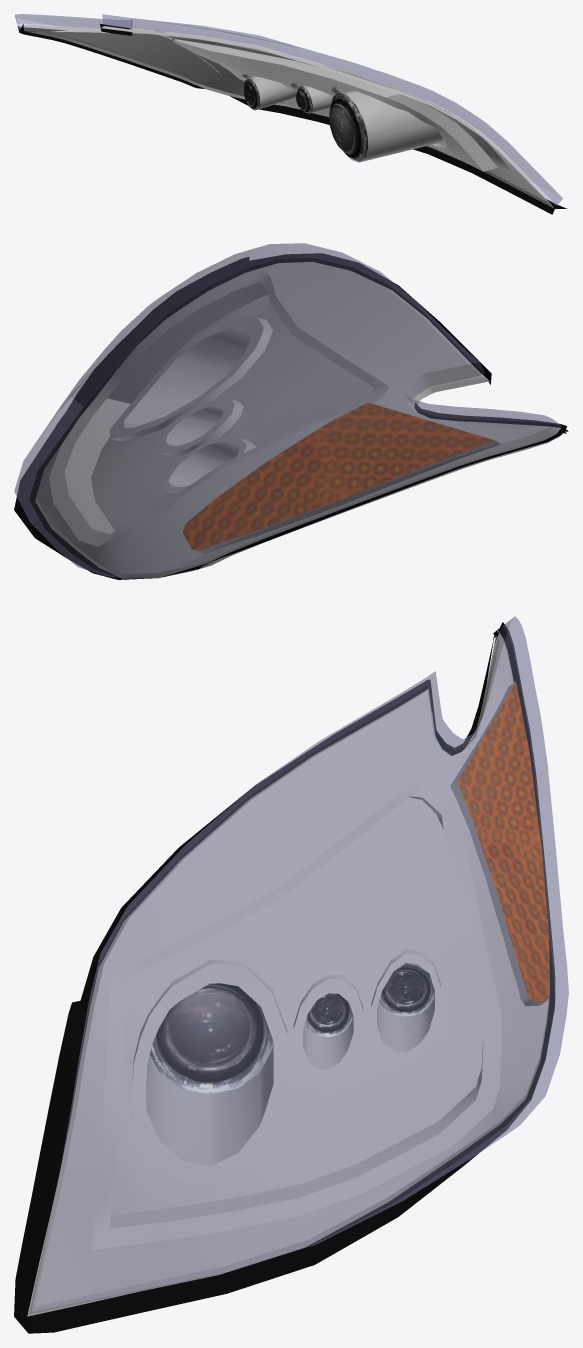
3 views of the same model, one above another, from view 1: azimuth 30°, elevation 25°; view 2: azimuth 150°, elevation 25°; view 3: azimuth 270°, elevation 25° (orthographic). The views are drawn at different scales.
Visible parts, largest first — view 1: Y192_061B_L_Y192_061B_L_2_DaS, Y192_061B_L_Y192_061B_L_7_DTaSI, Y192_061B_L_Y192_061B_L_8_D, Y192_061B_L_1_N_Y192_061B_L, Y192_061B_L_Y192_061B_L_4_N, Y192_061B_L_Y192_061B_L_3_N; view 2: Y192_061B_L_Y192_061B_L_7_DTaSI, Y192_061B_L_Y192_061B_L_2_DaS, Y192_061B_L_Y192_061B_L_6_N, Y192_061B_L_Y192_061B_L_8_D; view 3: Y192_061B_L_Y192_061B_L_7_DTaSI, Y192_061B_L_Y192_061B_L_2_DaS, Y192_061B_L_Y192_061B_L_8_D, Y192_061B_L_Y192_061B_L_6_N, Y192_061B_L_1_N_Y192_061B_L, Y192_061B_L_Y192_061B_L_4_N, Y192_061B_L_Y192_061B_L_3_N.
Boxes of the visible parts, box(x1,y1,x2,y2) form: Y192_061B_L_Y192_061B_L_2_DaS: box(18, 24, 554, 208); Y192_061B_L_Y192_061B_L_7_DTaSI: box(15, 14, 562, 205); Y192_061B_L_Y192_061B_L_8_D: box(17, 23, 566, 214); Y192_061B_L_1_N_Y192_061B_L: box(329, 92, 368, 162); Y192_061B_L_Y192_061B_L_4_N: box(244, 79, 259, 110); Y192_061B_L_Y192_061B_L_3_N: box(296, 86, 312, 113); Y192_061B_L_Y192_061B_L_7_DTaSI: box(14, 243, 561, 577); Y192_061B_L_Y192_061B_L_2_DaS: box(35, 262, 560, 578); Y192_061B_L_Y192_061B_L_6_N: box(183, 402, 494, 550); Y192_061B_L_Y192_061B_L_8_D: box(14, 253, 568, 579); Y192_061B_L_Y192_061B_L_7_DTaSI: box(29, 616, 568, 1314); Y192_061B_L_Y192_061B_L_2_DaS: box(27, 629, 549, 1316); Y192_061B_L_Y192_061B_L_8_D: box(14, 622, 554, 1333); Y192_061B_L_Y192_061B_L_6_N: box(457, 682, 549, 1002); Y192_061B_L_1_N_Y192_061B_L: box(150, 983, 273, 1094); Y192_061B_L_Y192_061B_L_4_N: box(379, 963, 434, 1016); Y192_061B_L_Y192_061B_L_3_N: box(305, 993, 353, 1036).
Size of the model in its own units: 61.7 by 27.76 by 39.26.
